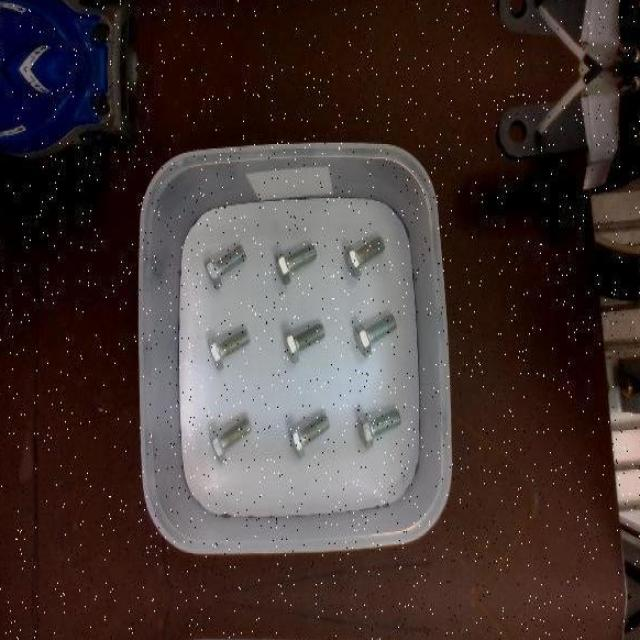screw: (209, 416, 253, 462), (204, 244, 246, 291), (354, 311, 398, 355), (289, 414, 331, 459), (344, 234, 386, 277), (275, 243, 318, 285), (208, 328, 251, 370), (282, 321, 326, 362), (358, 408, 402, 449)
